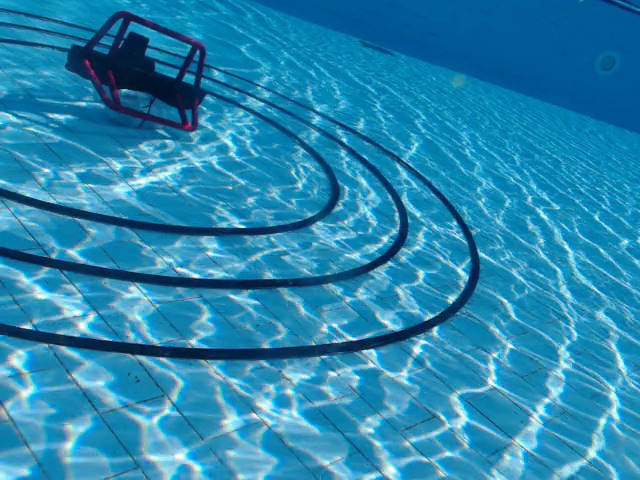submarine: (65, 10, 210, 135)
